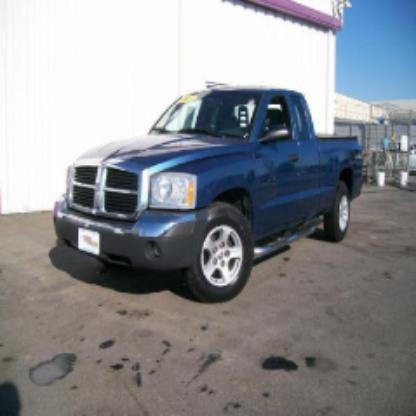Vehicle: (51, 84, 366, 306)
